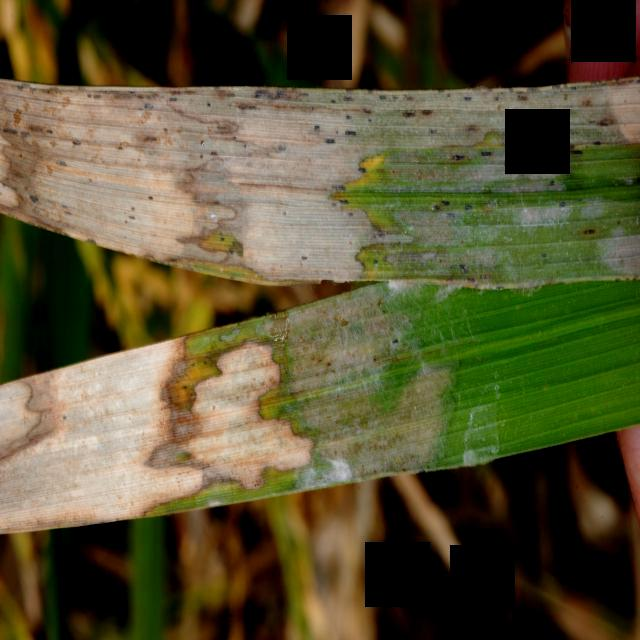Bacterial_Leaf_Blight: (0, 76, 640, 296), (0, 332, 318, 536)
